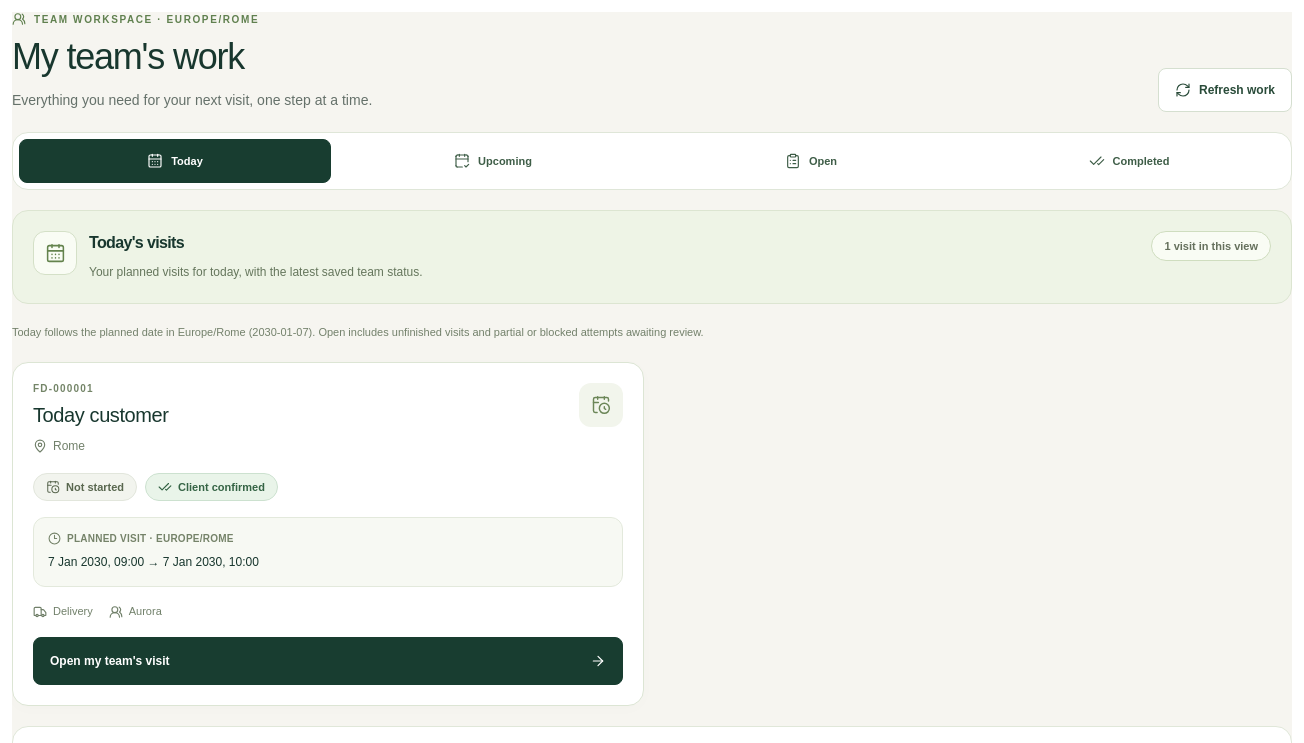
Scenario: M5 team work views › hides the old view immediately and ignores its late response after a different work view loads
The image size is (1304, 743).
Expected: the link "Today customer" is shown, [33,404,169,426]
Click the button "Refresh work" at coordinates (1225, 90), box [1158,68,1292,112]
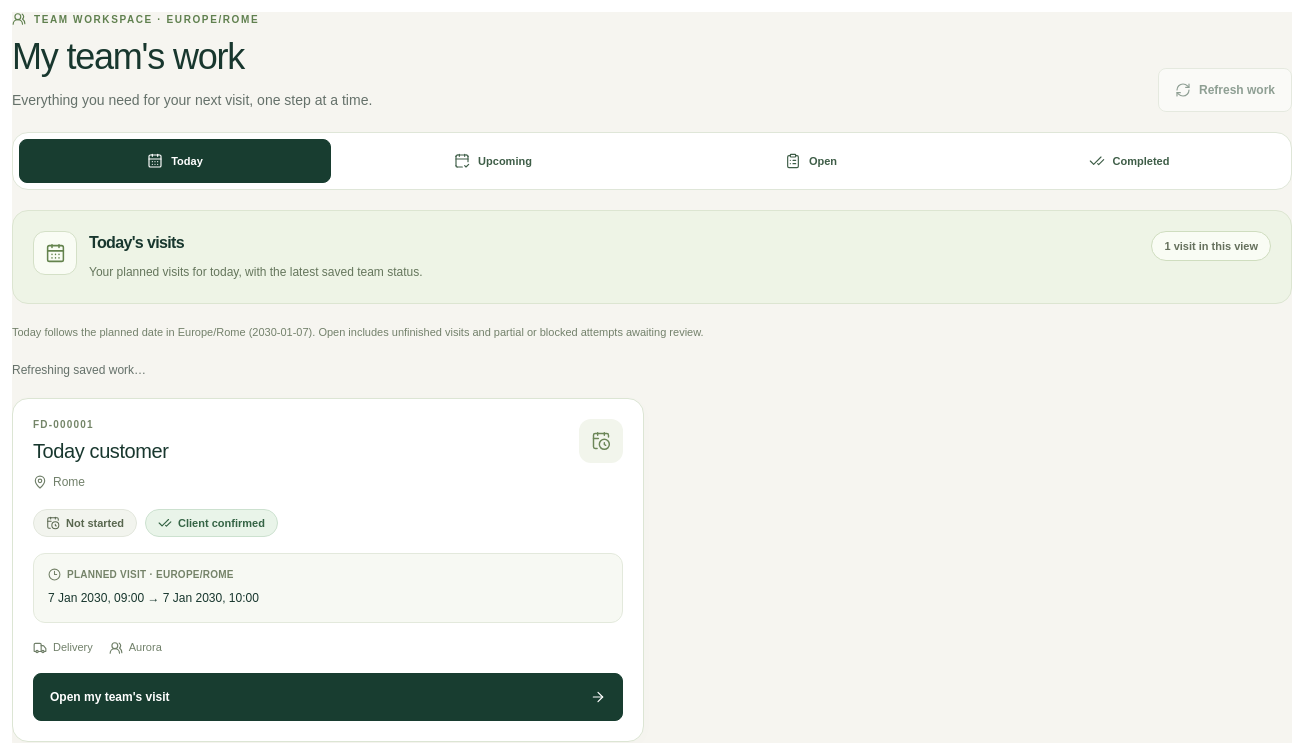
Click the button "Upcoming" at coordinates (493, 161), box [337,139,649,183]
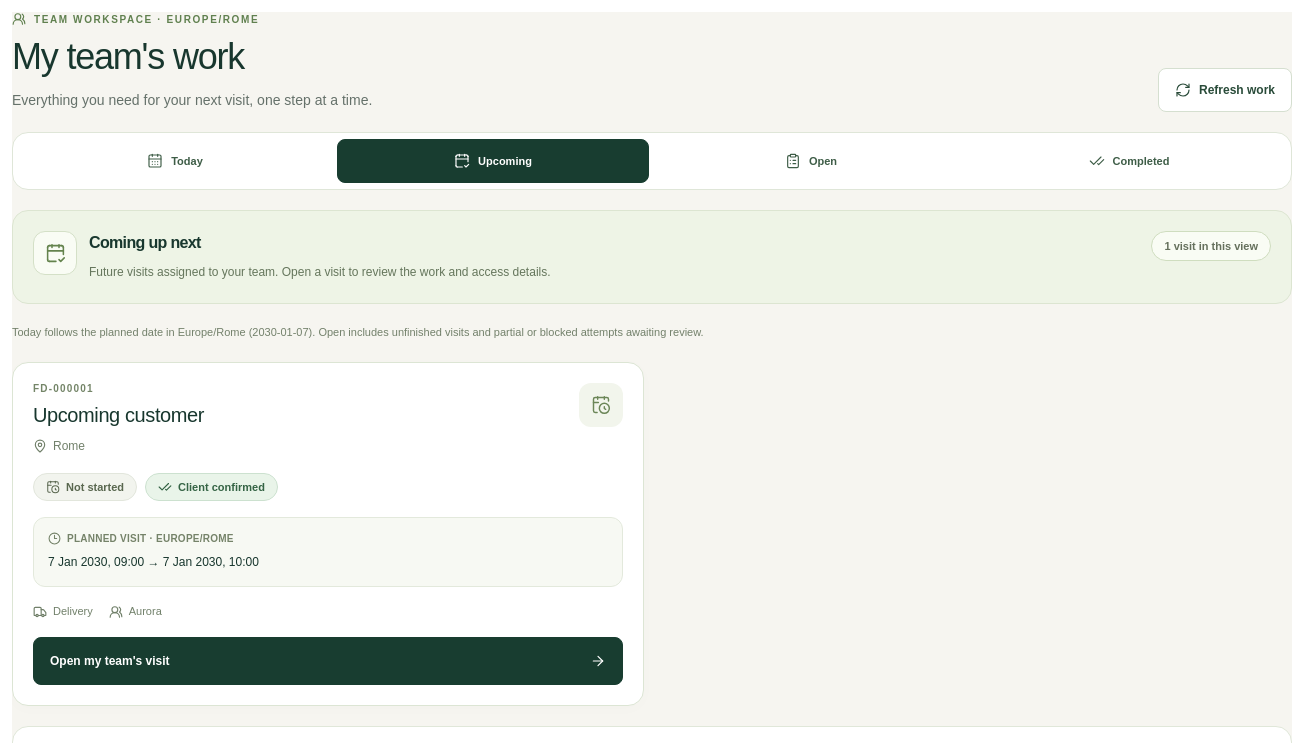
Now the link "Today customer" is gone
Now the link "Upcoming customer" is shown, box [33,404,204,426]
